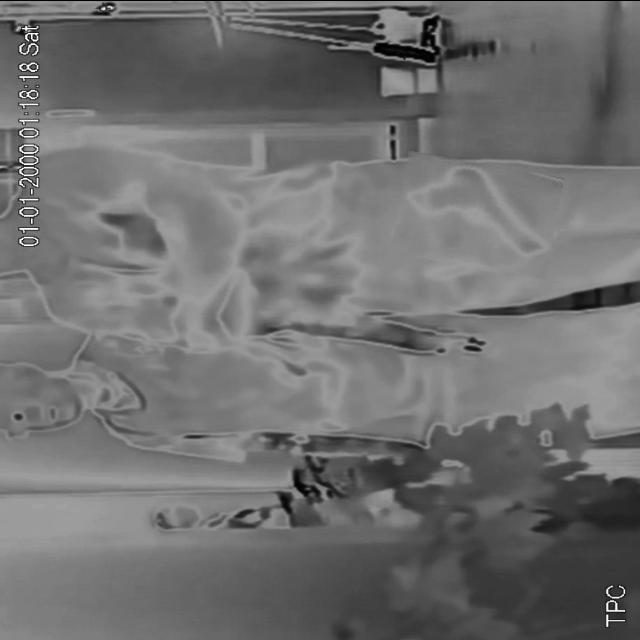Weapon: (396, 156, 560, 272)
